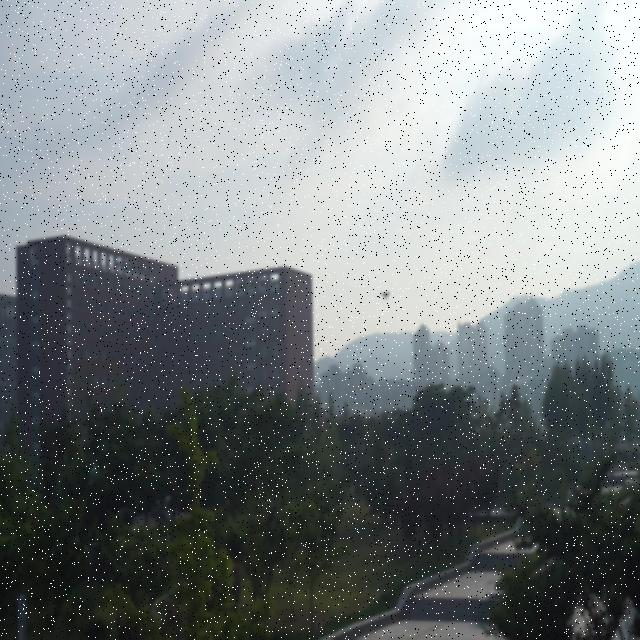UAV: (379, 292, 390, 300)
